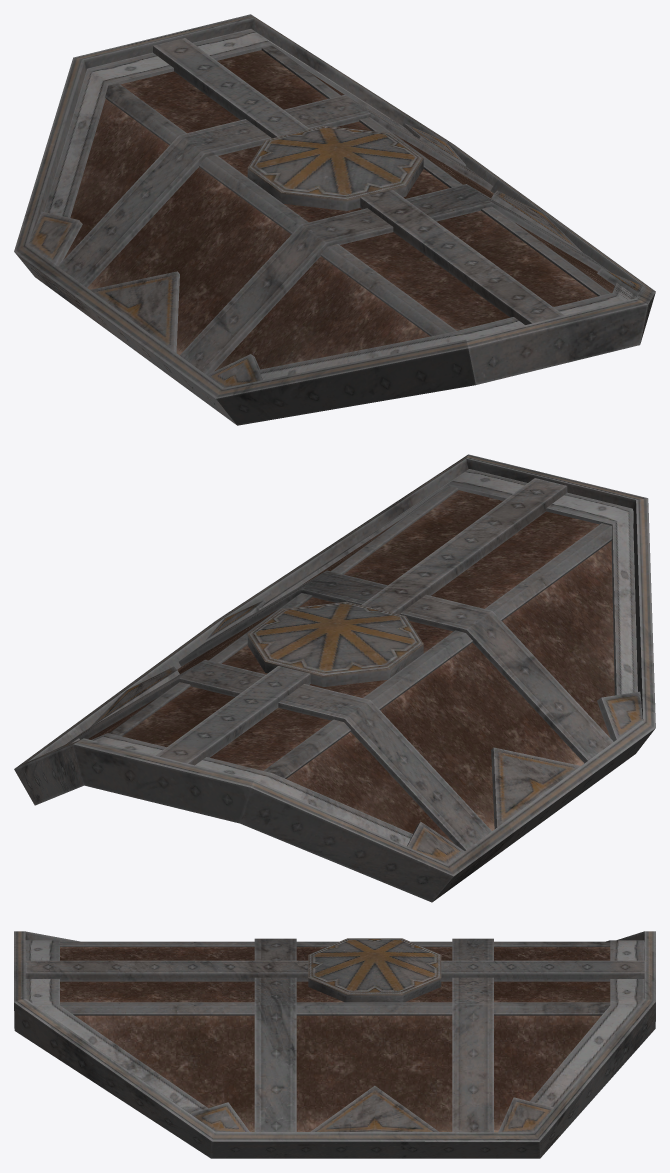
Rendered from sm_dwarf_erebor_shield_tower_d.fbx.
The picture shows the model from 3 angles, top to bottom: view 1: azimuth 30°, elevation 25°; view 2: azimuth 150°, elevation 25°; view 3: azimuth 270°, elevation 25°; orthographic projection. The views are drawn at different scales.
Visible parts, largest first — view 1: sm_dwarf_erebor_shield_tower_d; view 2: sm_dwarf_erebor_shield_tower_d; view 3: sm_dwarf_erebor_shield_tower_d.
Boxes of the visible parts, x1,y1,x2,y2 form: sm_dwarf_erebor_shield_tower_d: (14, 14, 655, 425); sm_dwarf_erebor_shield_tower_d: (14, 454, 655, 902); sm_dwarf_erebor_shield_tower_d: (14, 931, 655, 1158).
Bounding box in the file's own units: 0.6504 × 1.01 × 0.2209.
1 material, 1 textured.
